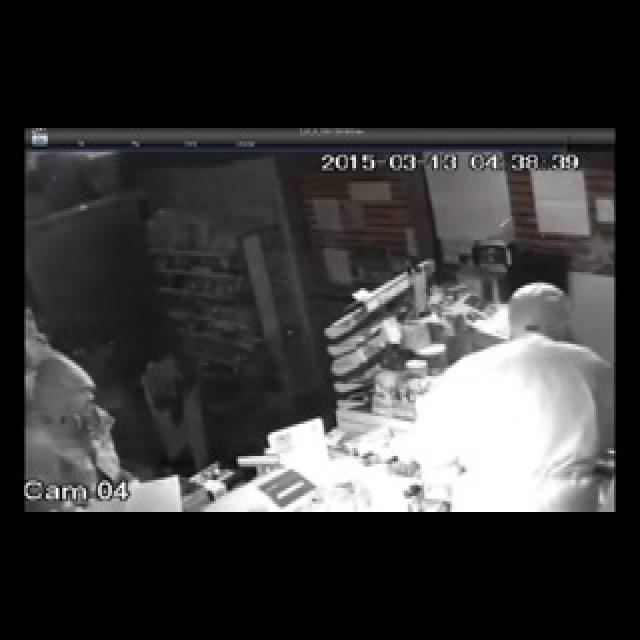thief: (416, 297, 598, 506), (30, 337, 134, 511)
